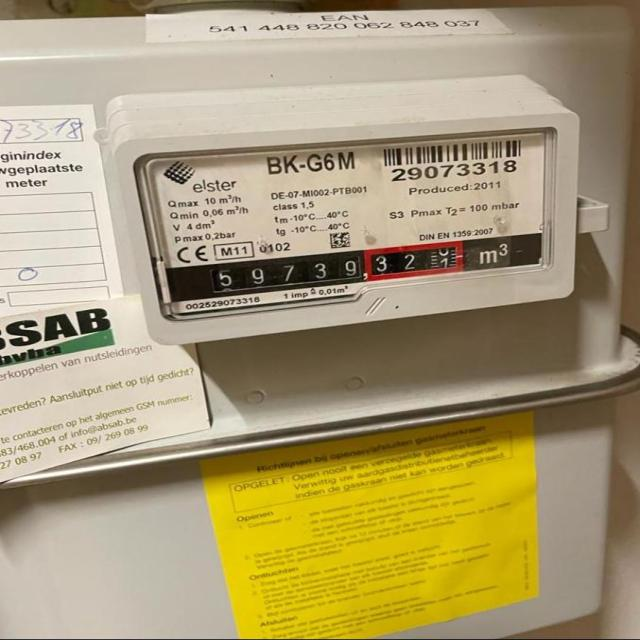gaz_meter: (137, 127, 556, 320)
indication: (164, 239, 469, 303)
